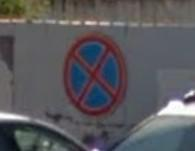No Parking: (64, 35, 128, 117)
